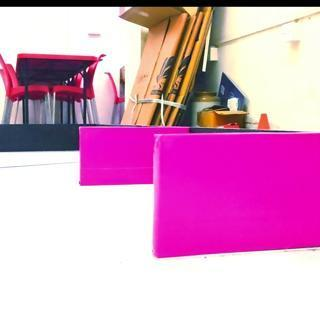xparking: (156, 134, 320, 251), (80, 125, 151, 188)
